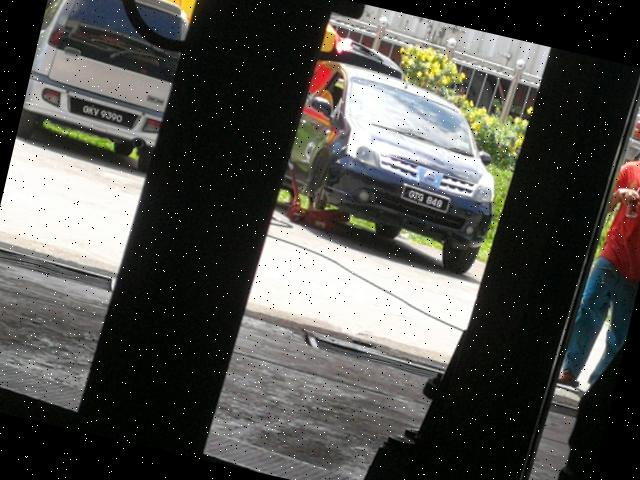License_Plate: (68, 96, 140, 130), (401, 185, 453, 216)
car: (265, 29, 524, 281), (16, 1, 204, 174)
